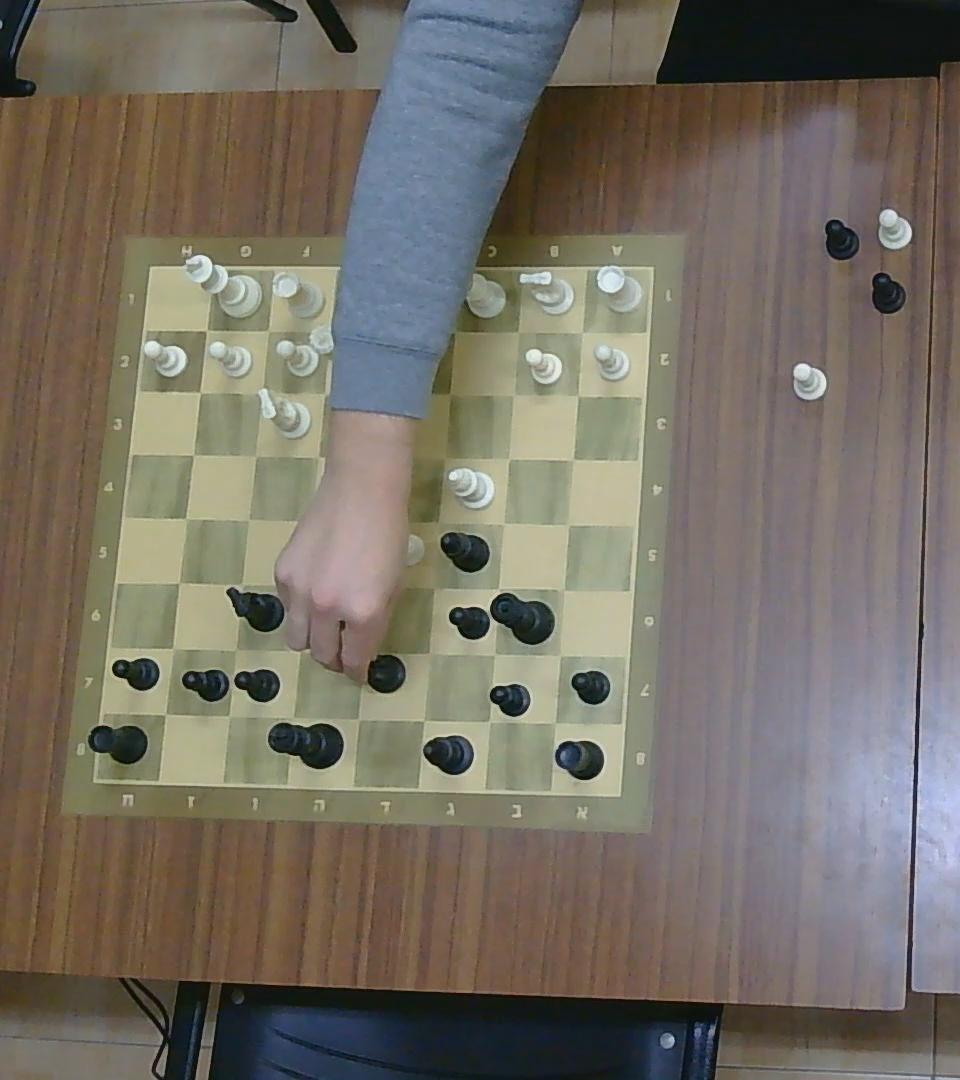xcorner: (315, 319, 345, 351), (310, 378, 339, 407), (344, 704, 372, 733), (379, 317, 403, 350), (441, 316, 469, 344), (152, 699, 179, 728), (474, 706, 501, 734), (279, 702, 305, 731), (215, 701, 241, 729), (160, 633, 185, 662), (297, 508, 322, 537), (504, 317, 530, 344), (222, 635, 247, 663), (360, 508, 384, 537), (293, 574, 317, 603), (193, 315, 218, 342), (411, 705, 436, 732), (288, 636, 313, 663), (570, 317, 595, 344), (376, 378, 399, 407), (541, 709, 567, 734), (228, 572, 253, 598), (167, 568, 191, 595), (256, 317, 280, 344), (250, 377, 275, 402), (305, 444, 330, 469), (417, 640, 442, 665), (551, 576, 576, 601), (425, 510, 450, 535), (235, 506, 259, 532), (354, 638, 378, 664), (174, 504, 197, 531), (180, 441, 204, 466), (566, 382, 590, 407), (481, 642, 505, 667), (547, 642, 572, 666), (420, 574, 444, 599), (367, 447, 390, 473), (358, 572, 381, 598), (557, 512, 581, 536), (486, 575, 510, 599), (244, 441, 267, 466), (491, 511, 515, 534), (438, 381, 461, 405), (497, 447, 520, 470), (502, 383, 525, 406), (188, 379, 210, 403), (433, 445, 455, 469), (562, 447, 584, 470)
